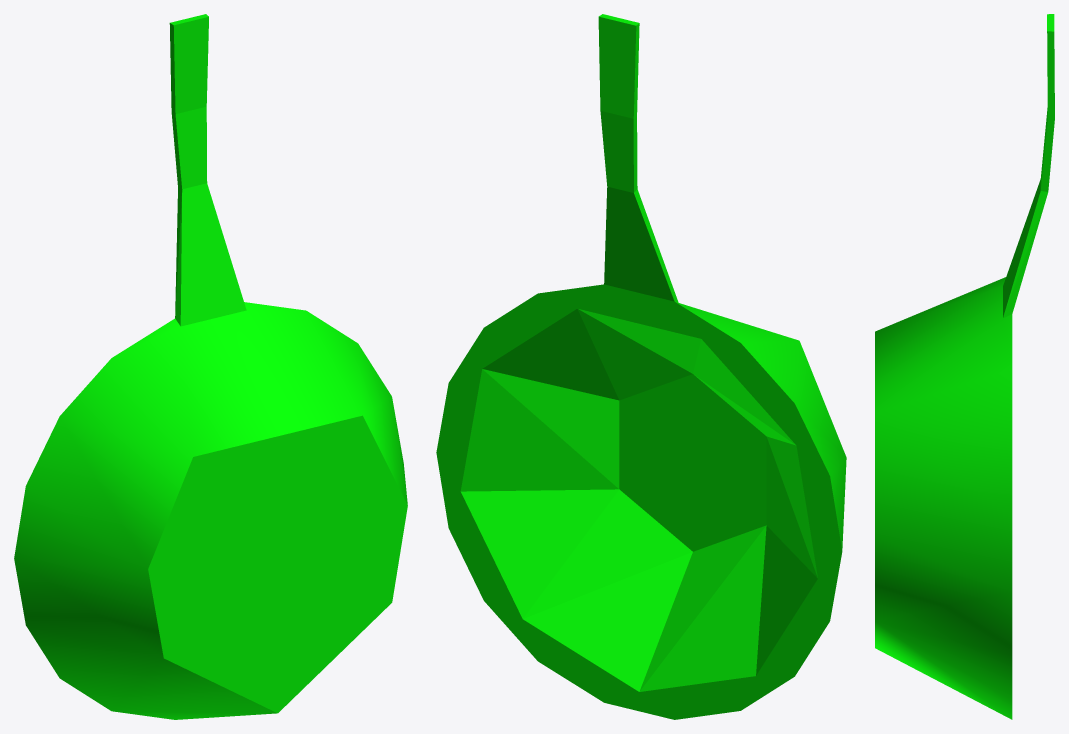
Rendered from SM_KitchenTool_01_Collider.fbx.
3 renders of one model, left to right at view 1: azimuth 30°, elevation 25°; view 2: azimuth 150°, elevation 25°; view 3: azimuth 270°, elevation 25°, orthographic. The views are drawn at different scales.
Parts seen in each view (by area): view 1: SM_KitchenTool_01_Collider; view 2: SM_KitchenTool_01_Collider; view 3: SM_KitchenTool_01_Collider.
Part boxes in pixels (x1,y1,x2,y2): SM_KitchenTool_01_Collider: (14, 14, 407, 719); SM_KitchenTool_01_Collider: (436, 14, 846, 719); SM_KitchenTool_01_Collider: (875, 14, 1054, 719).
Bounding box in the file's own units: 35.6 × 59.18 × 14.31.
